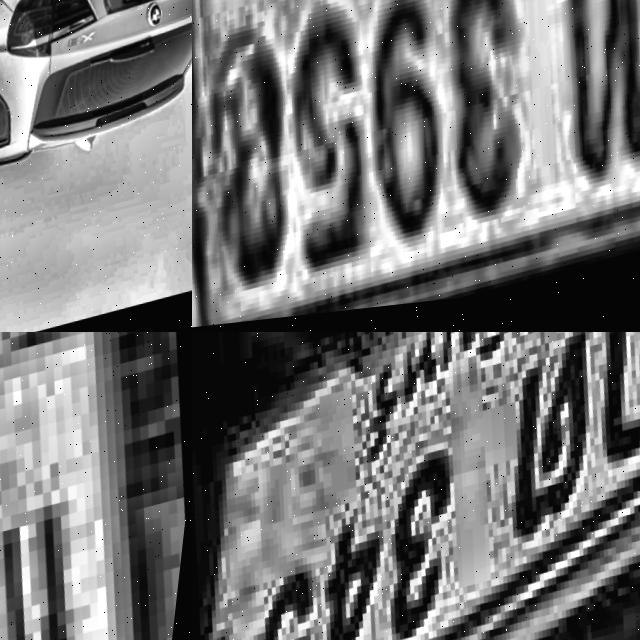license-plate: (192, 0, 640, 332), (192, 332, 640, 640), (0, 332, 192, 640), (118, 0, 188, 23)
